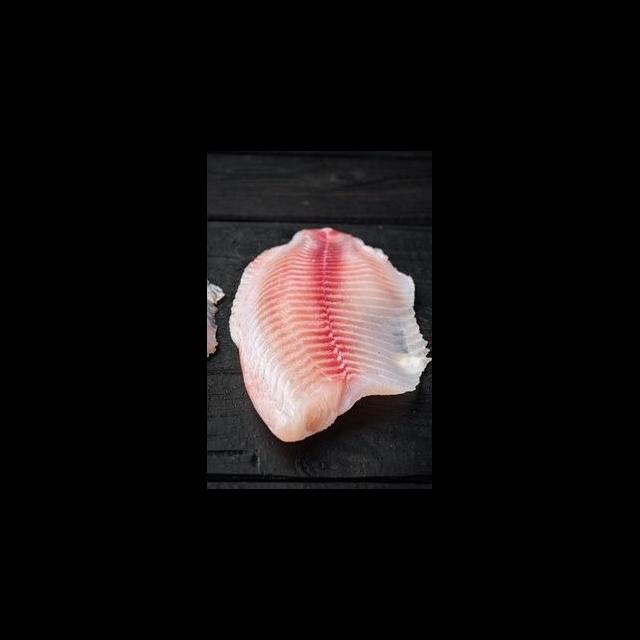fish: (227, 217, 432, 450)
